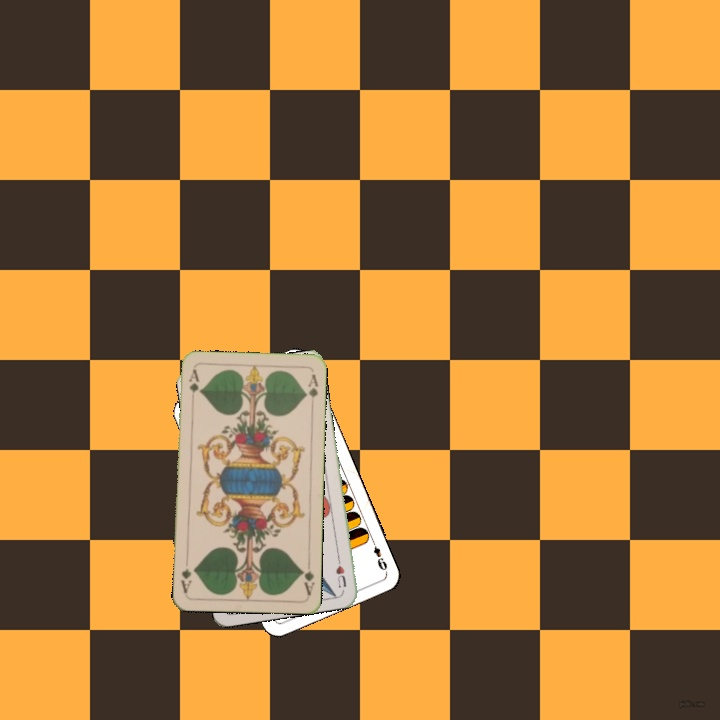E9: (367, 536, 390, 574)
GA: (297, 557, 317, 598), (184, 366, 201, 406)
HU: (332, 551, 349, 590)
